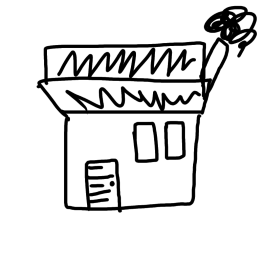door: (81, 154, 125, 215)
open_window: (125, 119, 160, 166), (161, 118, 187, 165)
roof: (32, 36, 222, 116)
smoking_chimney: (199, 3, 257, 96)
wall: (57, 107, 203, 214)
